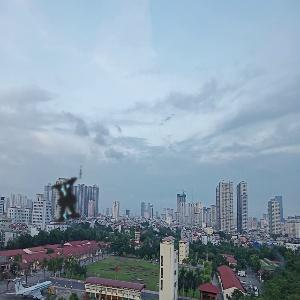drone: (14, 143, 131, 260)
